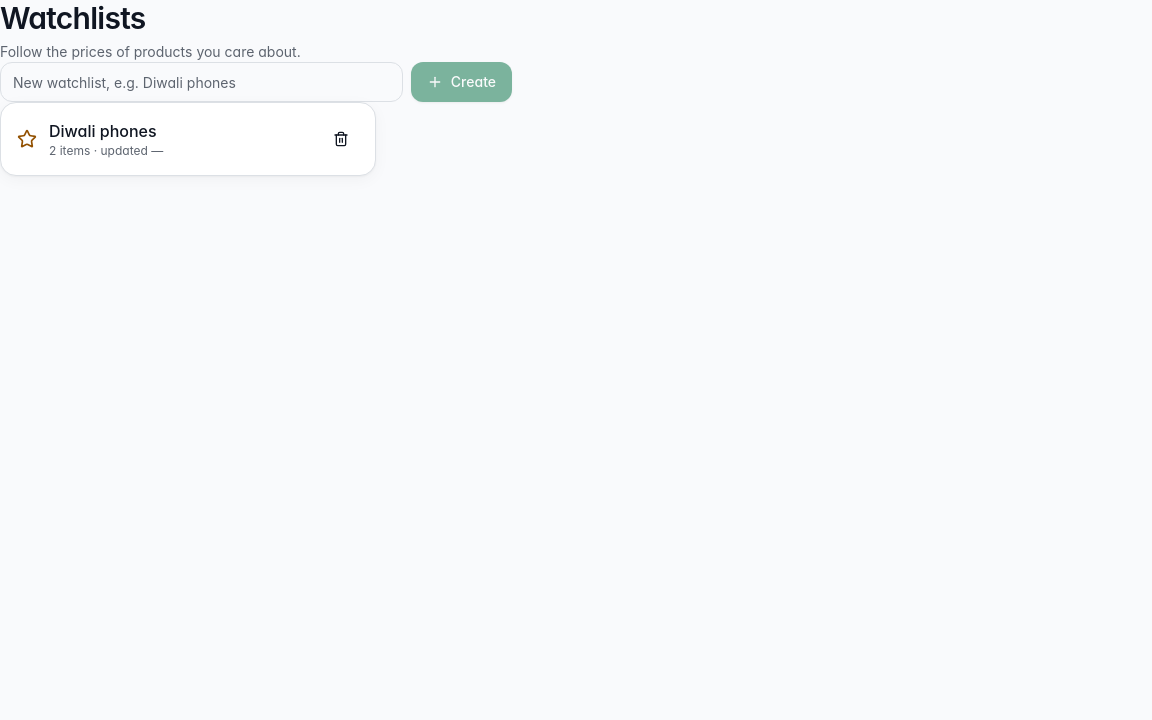
Test: 9b. watchlist deletion › asks for confirmation in a dialog and only deletes on confirm
The image size is (1152, 720).
Click the button named "Delete Diwali phones": (341, 139) x1=323 y1=121 x2=359 y2=157
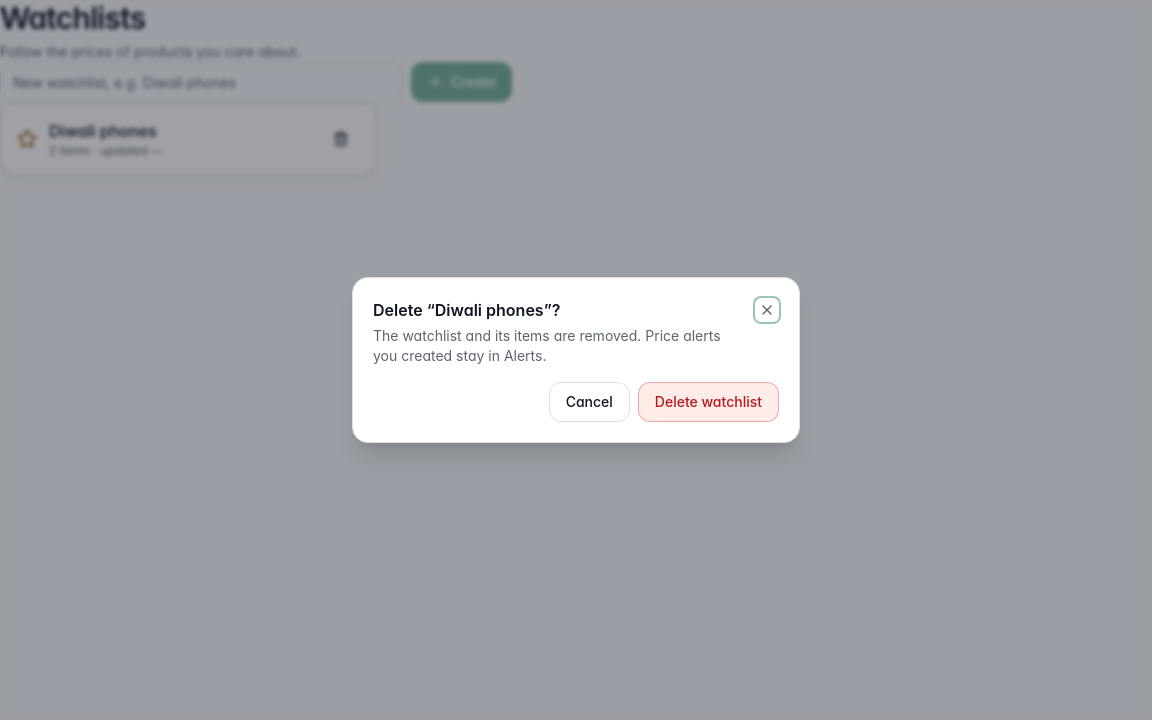
Click the button "Cancel": (589, 402) x1=549 y1=382 x2=630 y2=422
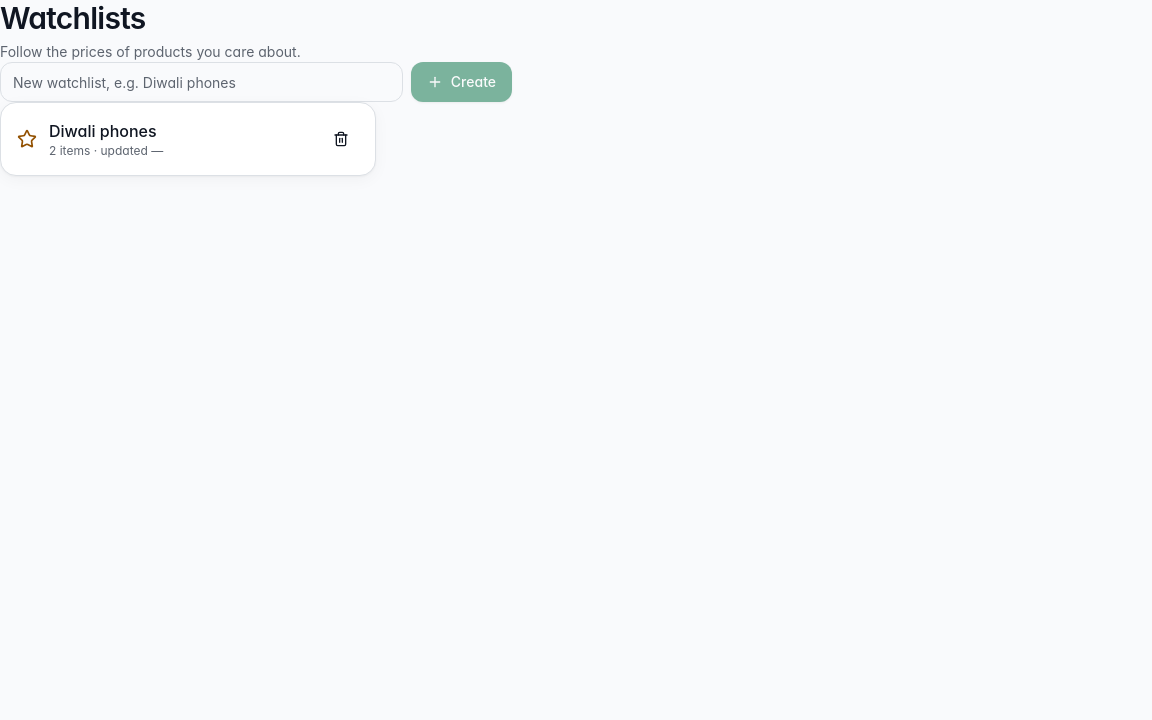
Expected: the dialog is gone
Click the button named "Delete Diwali phones": (341, 139) x1=323 y1=121 x2=359 y2=157
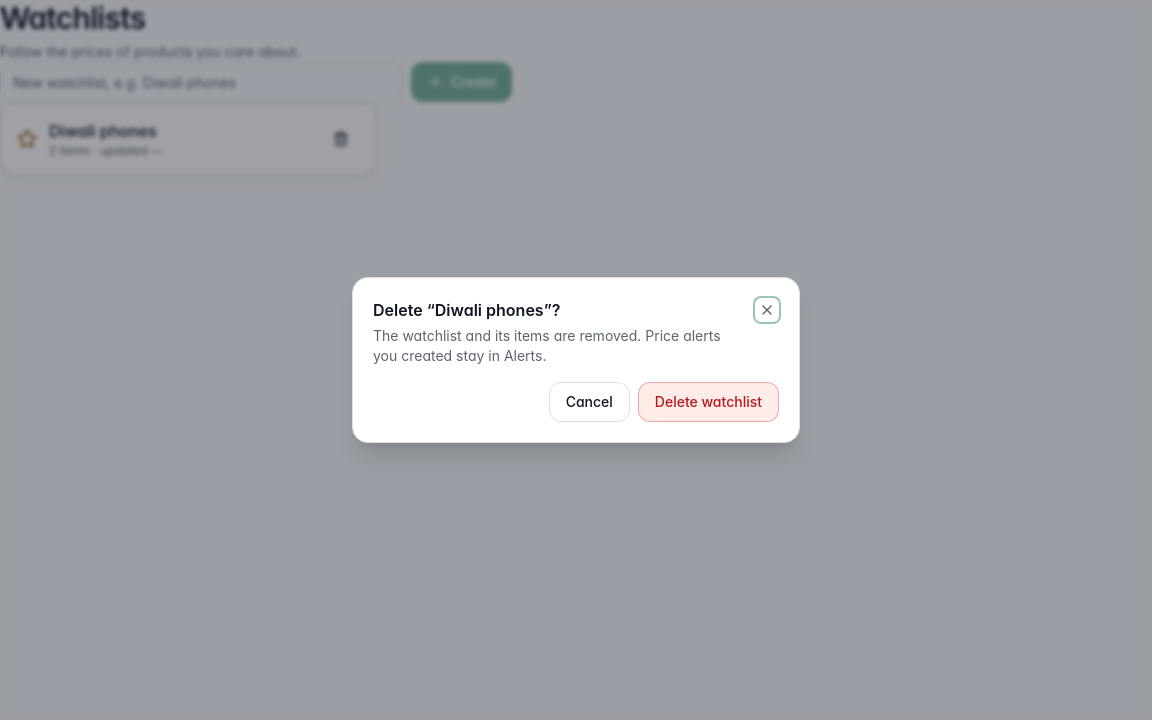
Click the button "Delete watchlist": (708, 402) x1=638 y1=382 x2=779 y2=422
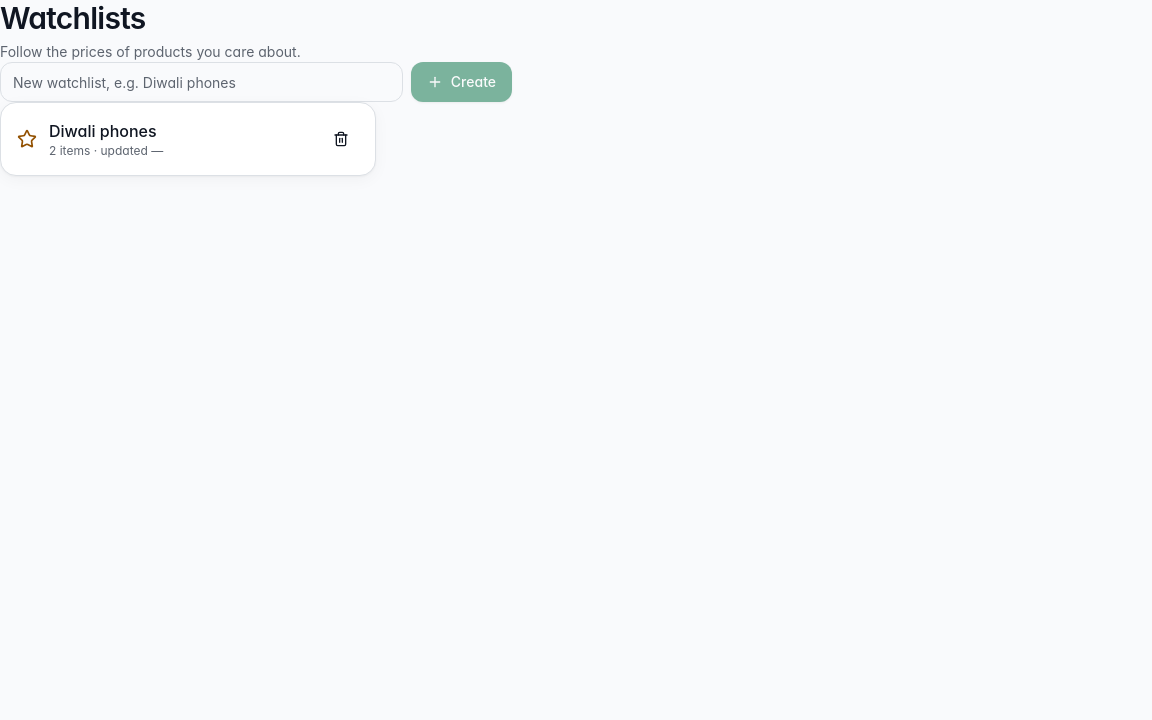
Expected: the dialog is gone
